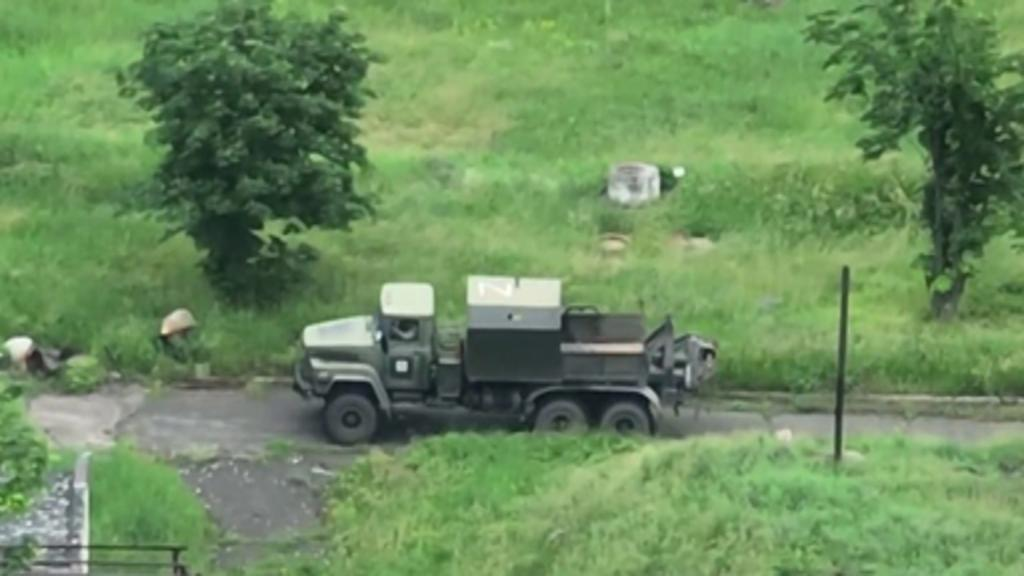TRUCK: (288, 270, 706, 447)
